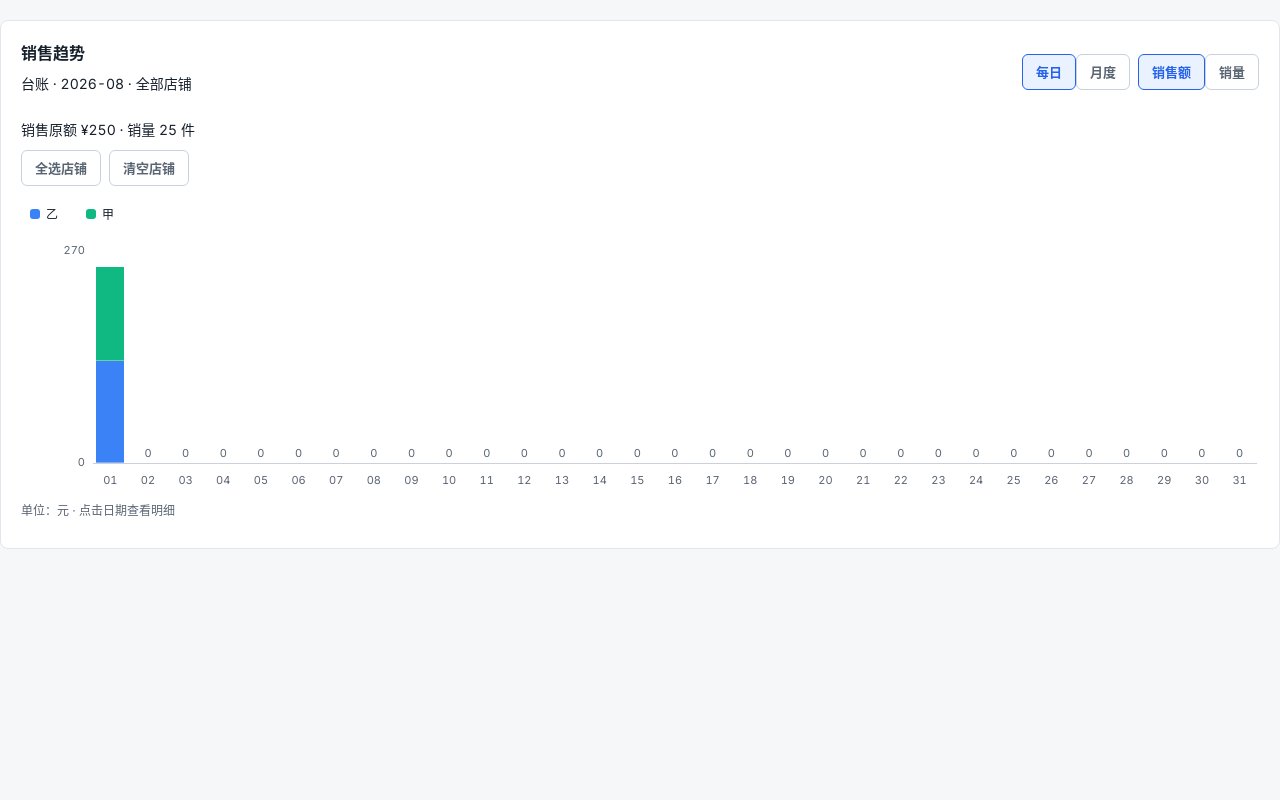
Scenario: search changes reset pagination without destroying the input element
Click the button with class "sales-daily-bar" showing "01": coordinates (110, 357) left=93, top=251, right=128, bottom=463
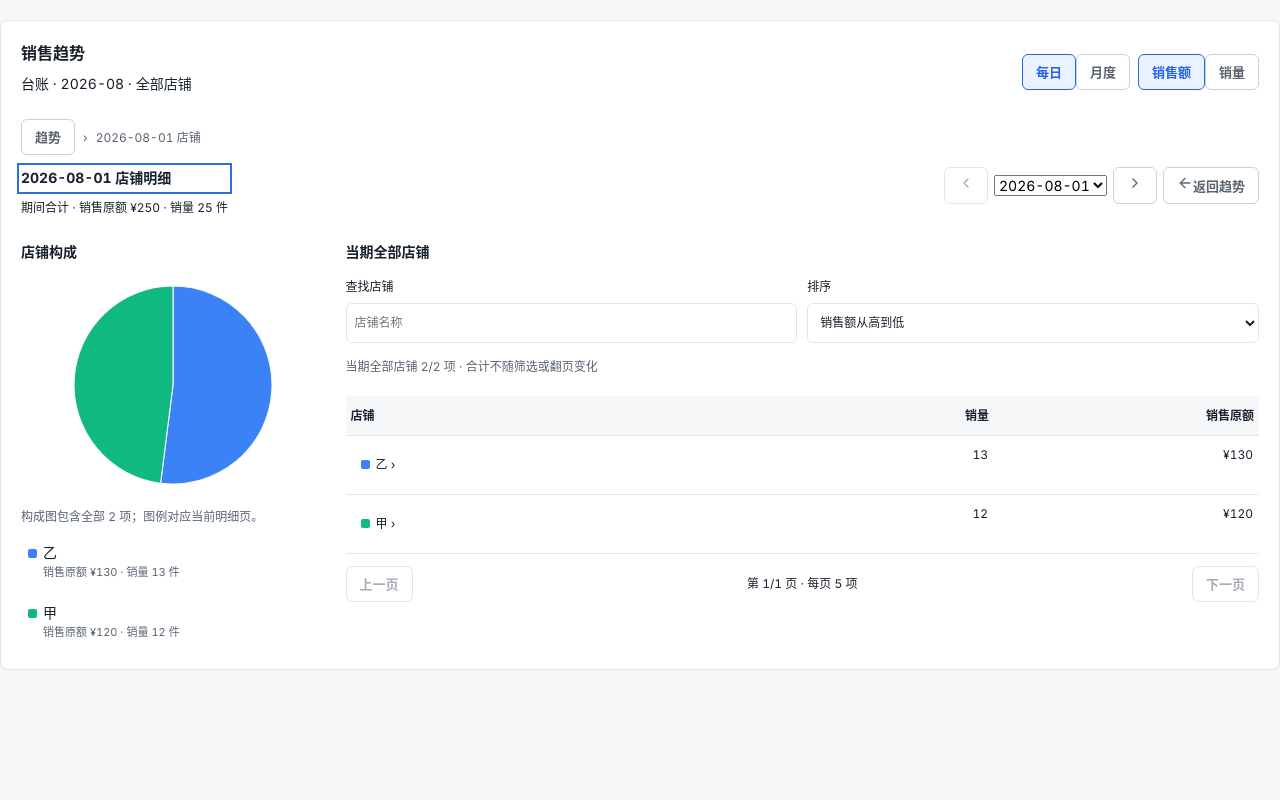
Click the button with class "sales-store-entry" showing "乙 ›": coordinates (378, 465) left=352, top=445, right=404, bottom=485
(page scrolled)
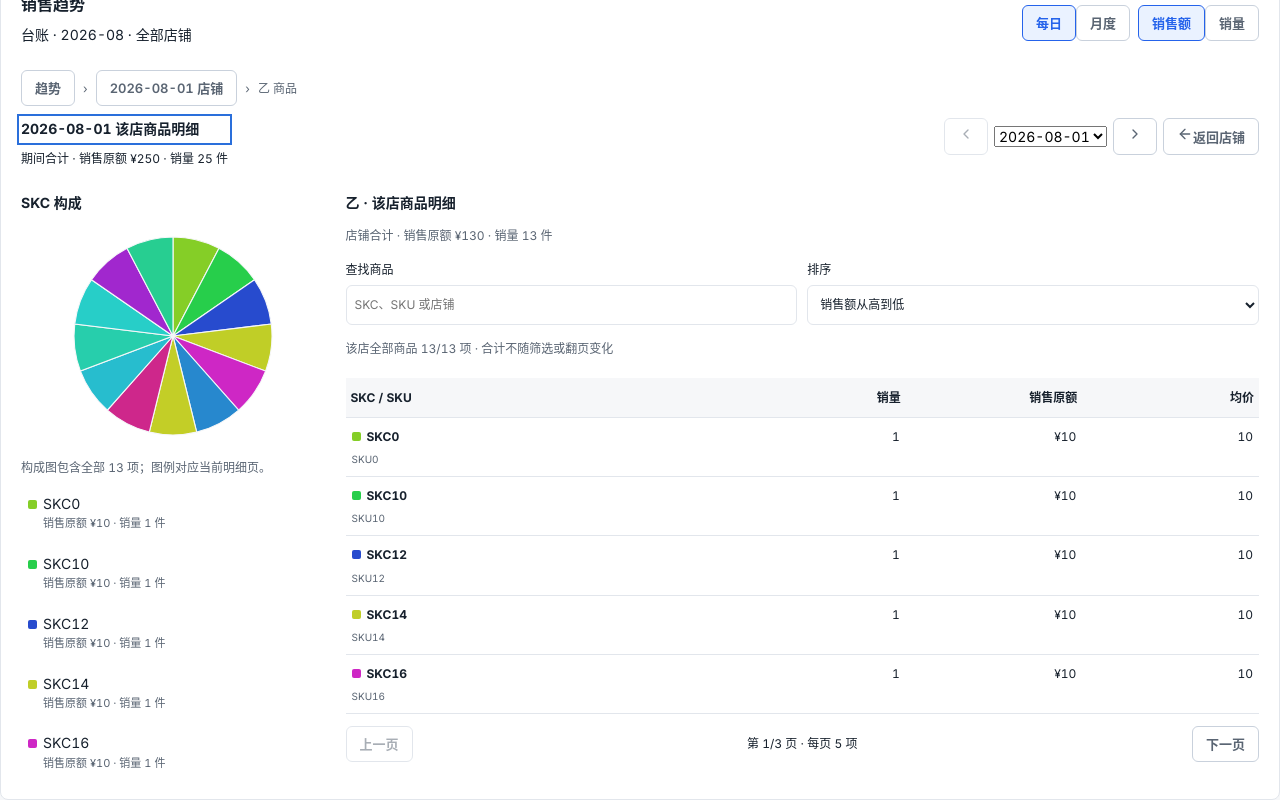
Click the button "下一页": coordinates (1226, 744) left=1192, top=726, right=1259, bottom=762
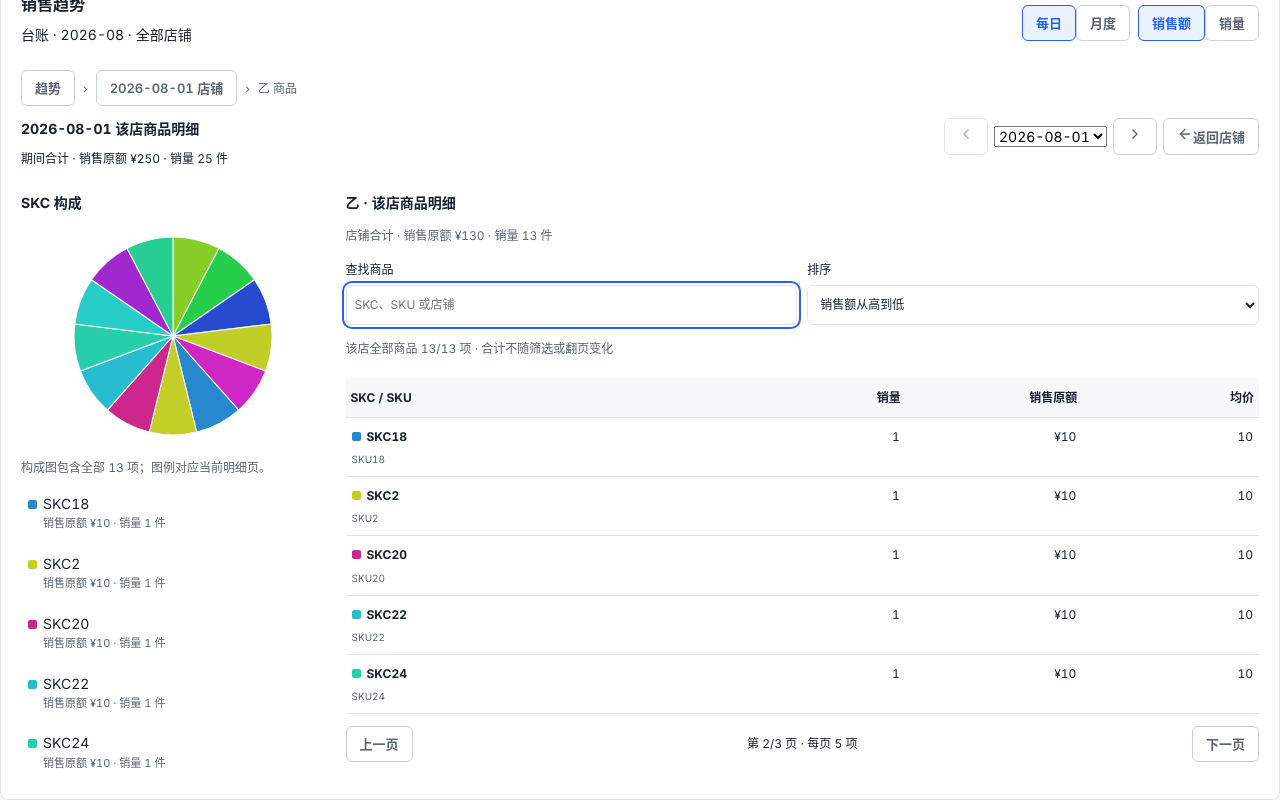
In the field labelled "查找商品": coordinates (571, 305) left=346, top=285, right=797, bottom=325, type "SKC24"
(page scrolled)
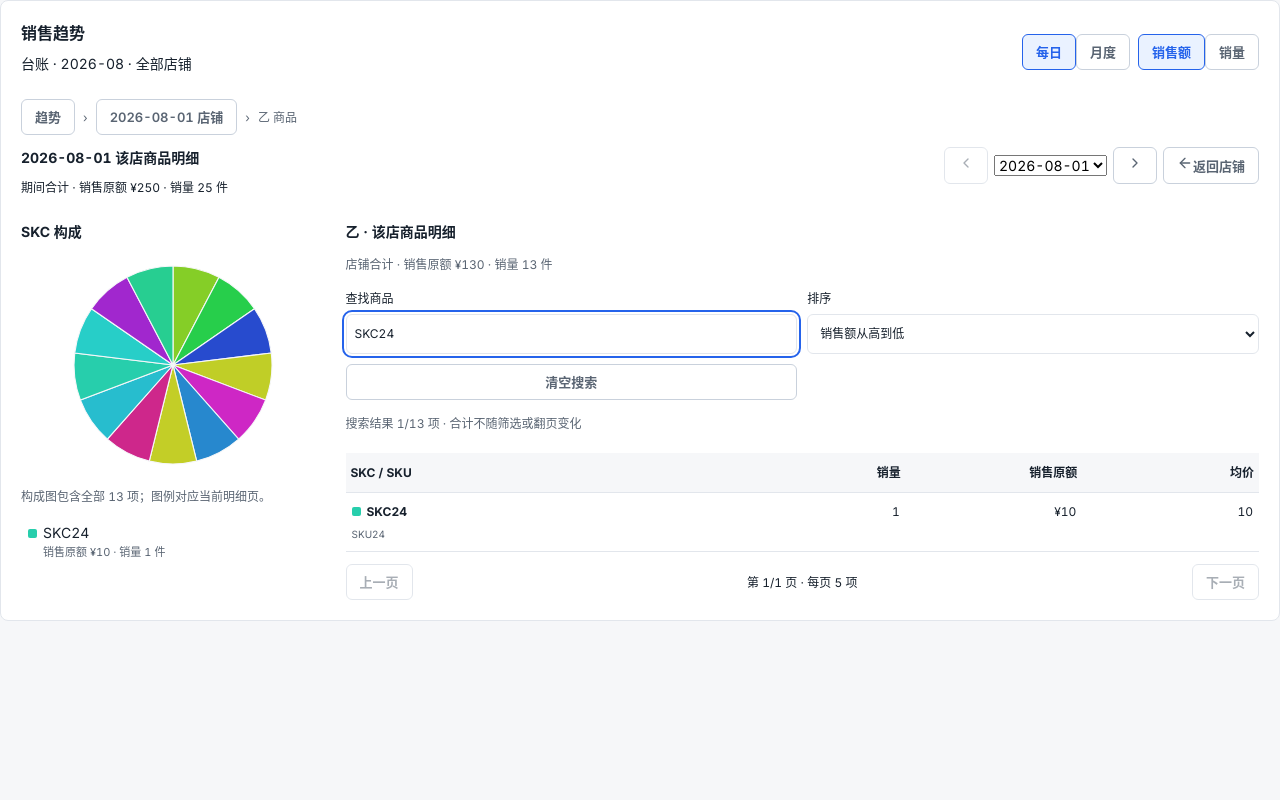
expect the text "第 1/1 页" is shown: met, box left=747, top=573, right=858, bottom=592
